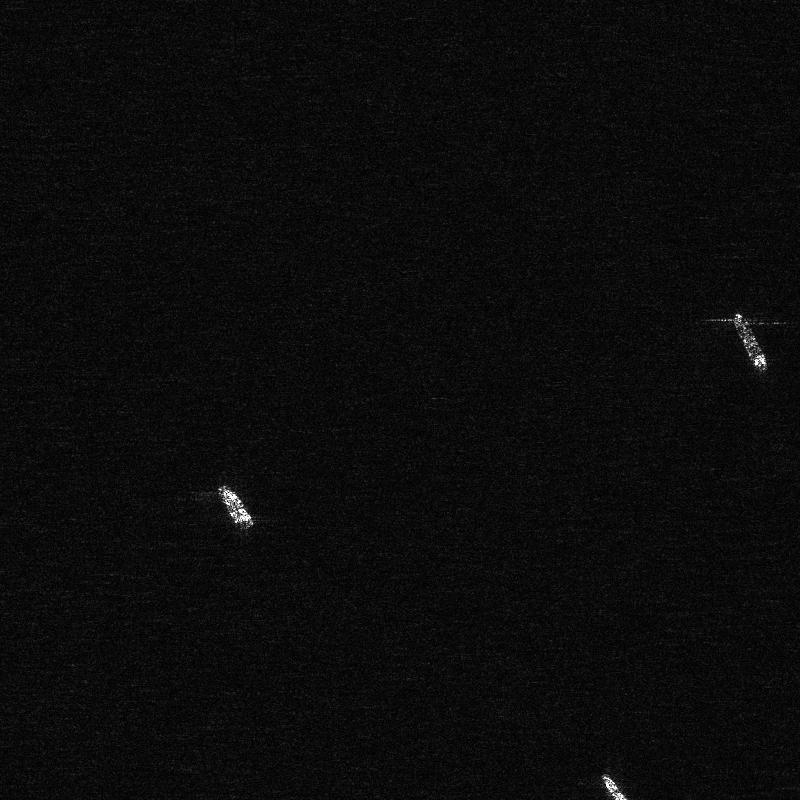ship: (732, 312, 768, 371), (218, 485, 253, 529), (601, 773, 628, 799)
